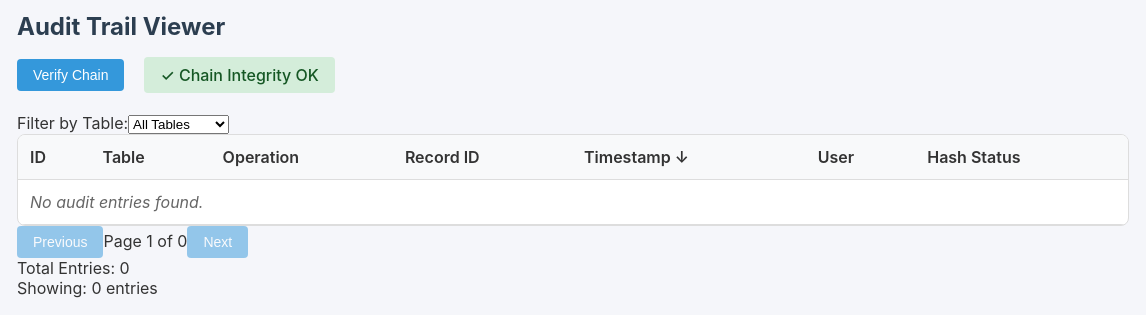
AuditViewer › clicking Verify Chain re-verifies
Expected: the text "✓ Chain Integrity OK" is shown, left=144, top=57, right=335, bottom=93
Click the button "Verify Chain" at {"x": 71, "y": 75}, box left=17, top=59, right=124, bottom=91
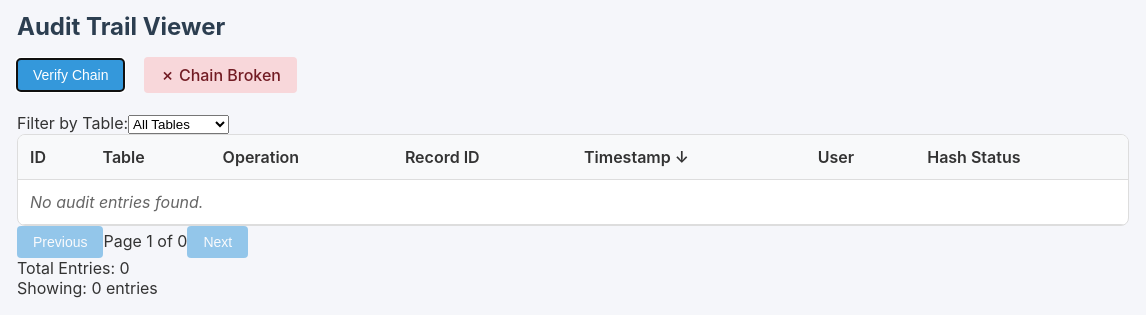
Expected: the text "✗ Chain Broken" is shown, left=144, top=57, right=297, bottom=93
